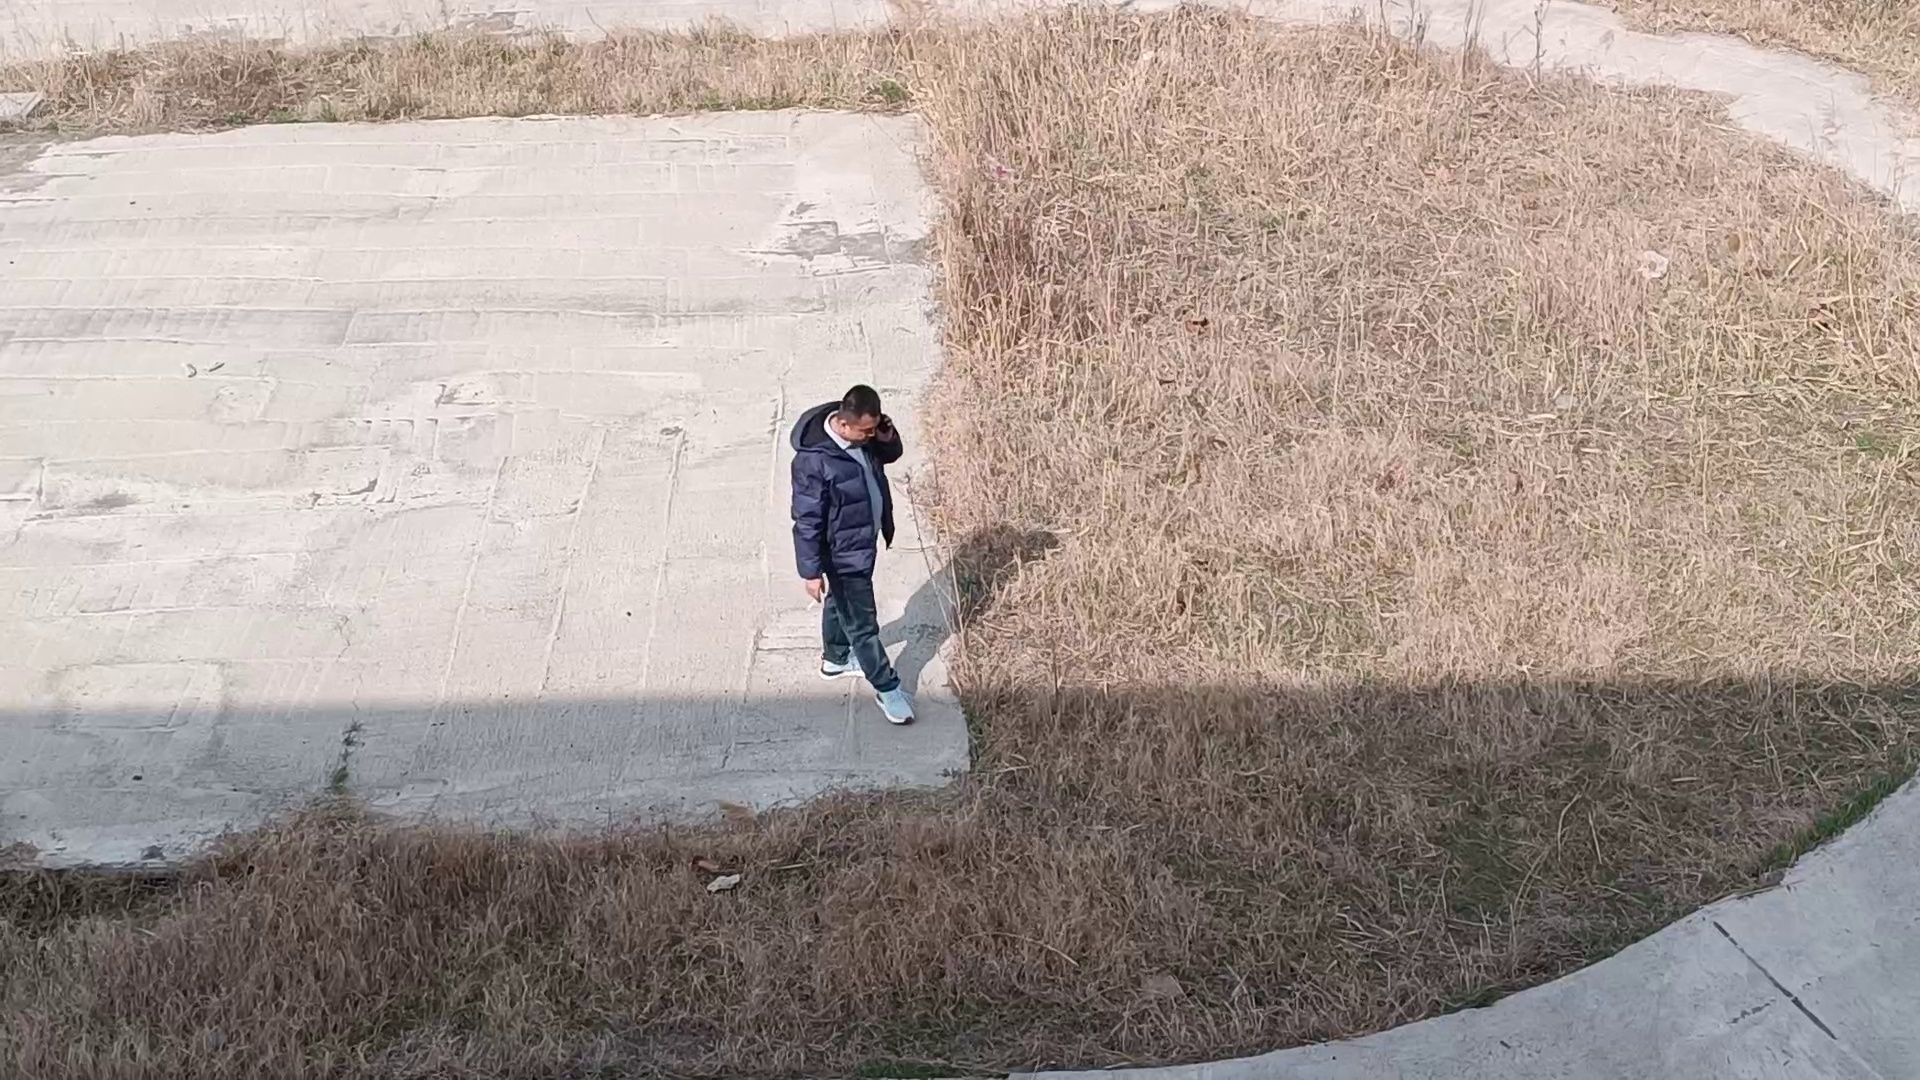phone: (829, 380, 897, 460)
